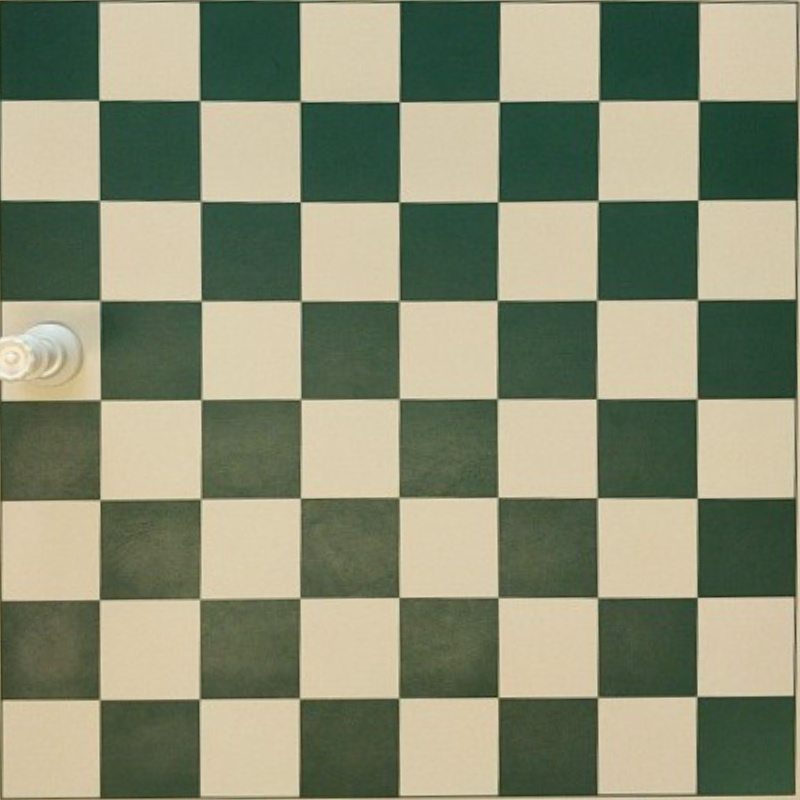white-queen: (0, 322, 80, 384)
